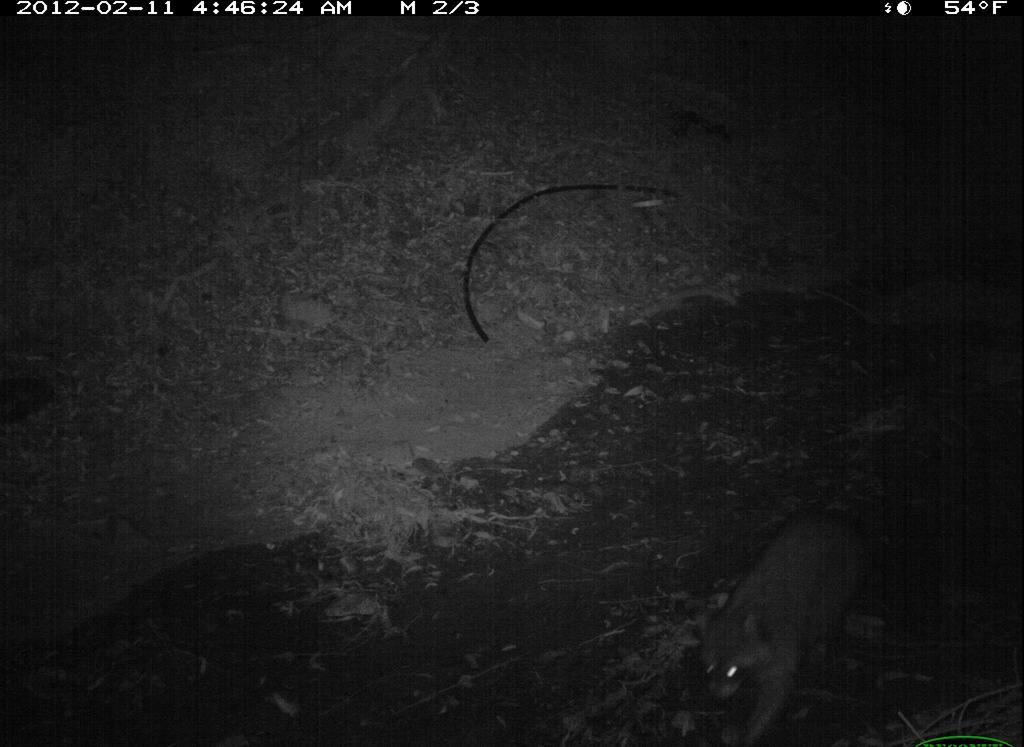raccoon: (689, 492, 886, 745)
